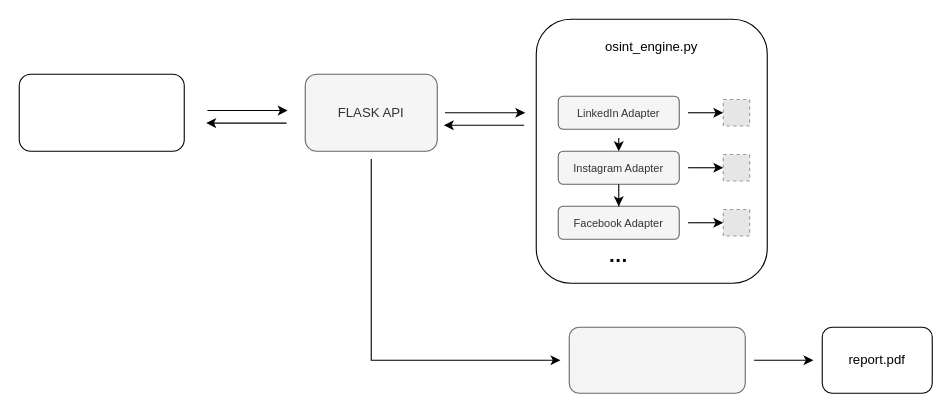
Some shapes in this 952 by 413 pixel diagram are drawn without their labels. Grey dashed boxes stand in for pictures. The shapes that lost their labels are listed below. From the top down, each one's centre as x and y in pixels, then its label:
At point (101, 112): "Frontend (index.html)".
At point (656, 359): "report_generator.py".
